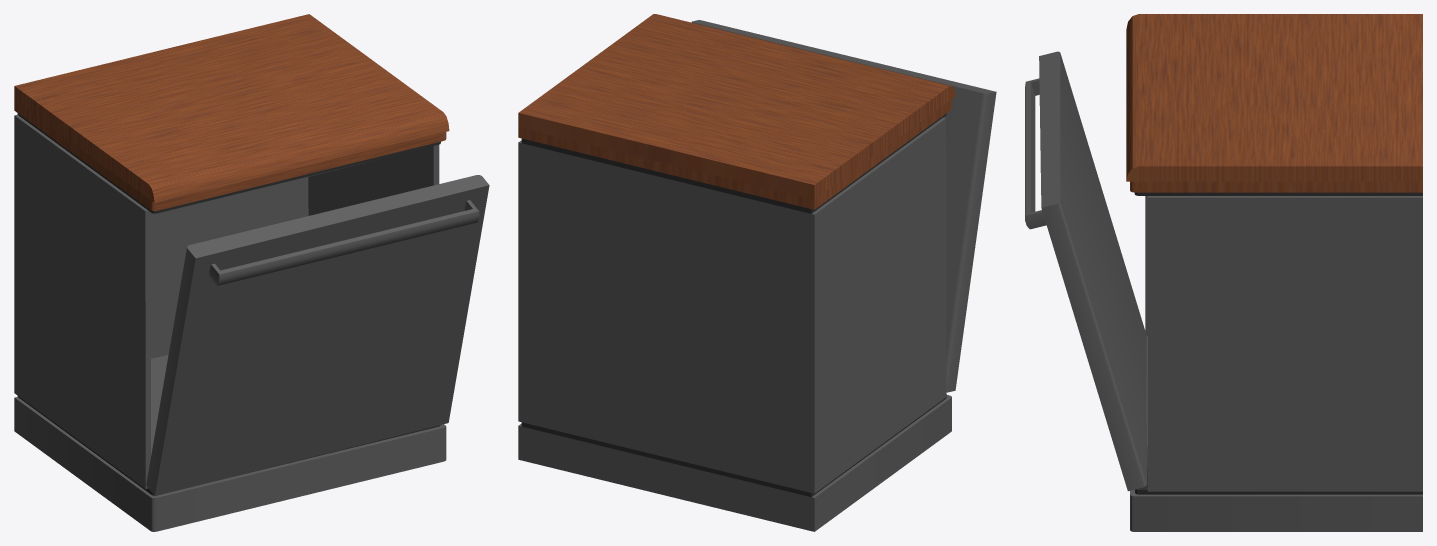
Rendered from Dishwasher.fbx.
3 renders of one model, left to right at view 1: azimuth 30°, elevation 25°; view 2: azimuth 150°, elevation 25°; view 3: azimuth 270°, elevation 25°, orthographic. The views are drawn at different scales.
Visible parts, largest first — view 1: Spülmaschine, Dishwash Door; view 2: Spülmaschine, Dishwash Door; view 3: Spülmaschine, Dishwash Door.
Boxes of the visible parts, x1,y1,x2,y2 form: Spülmaschine: (14, 14, 449, 531); Dishwash Door: (146, 175, 489, 495); Spülmaschine: (518, 14, 954, 531); Dishwash Door: (691, 20, 996, 392); Spülmaschine: (1126, 14, 1422, 531); Dishwash Door: (1025, 51, 1146, 491).
Size of the model in its own units: 0.8 by 0.8954 by 0.8826.
